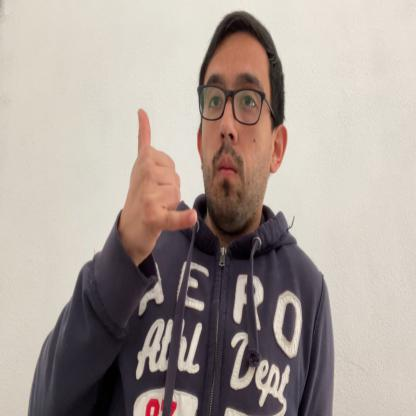Y: (131, 108, 198, 254)
